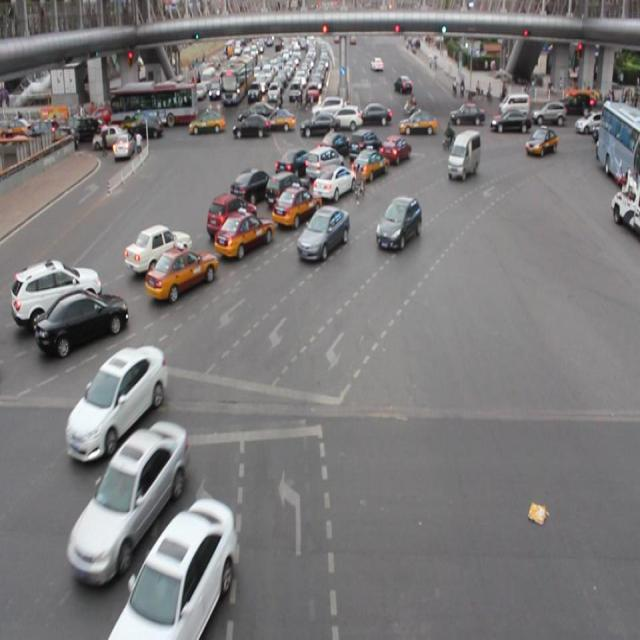car: (67, 420, 186, 586), (114, 496, 234, 640), (66, 345, 165, 464), (12, 259, 102, 329), (34, 291, 127, 354), (145, 244, 216, 299), (126, 224, 192, 270), (298, 205, 350, 260), (215, 209, 274, 256), (374, 195, 420, 249), (270, 184, 320, 230), (205, 190, 256, 234), (312, 159, 356, 200), (230, 170, 272, 206), (267, 172, 308, 207), (351, 146, 387, 183), (275, 148, 313, 180), (524, 125, 556, 161), (347, 128, 380, 160), (380, 133, 409, 167), (317, 130, 349, 160)
truck: (448, 130, 480, 180), (302, 146, 343, 180)
